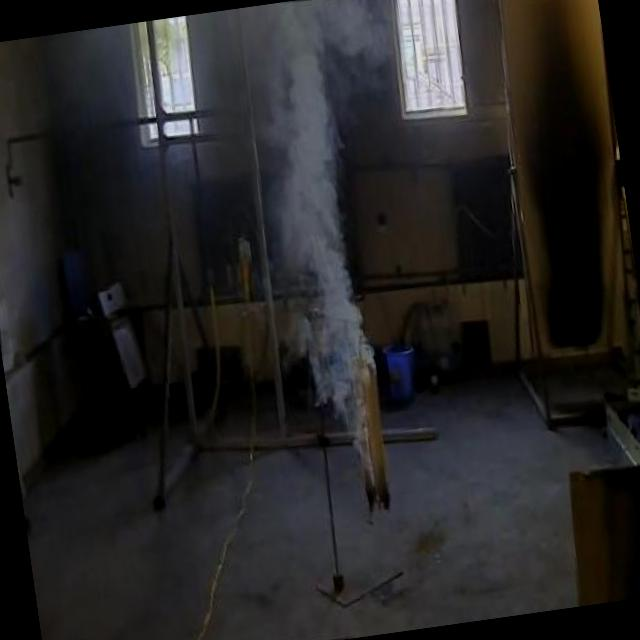smoke: (233, 0, 456, 487)
